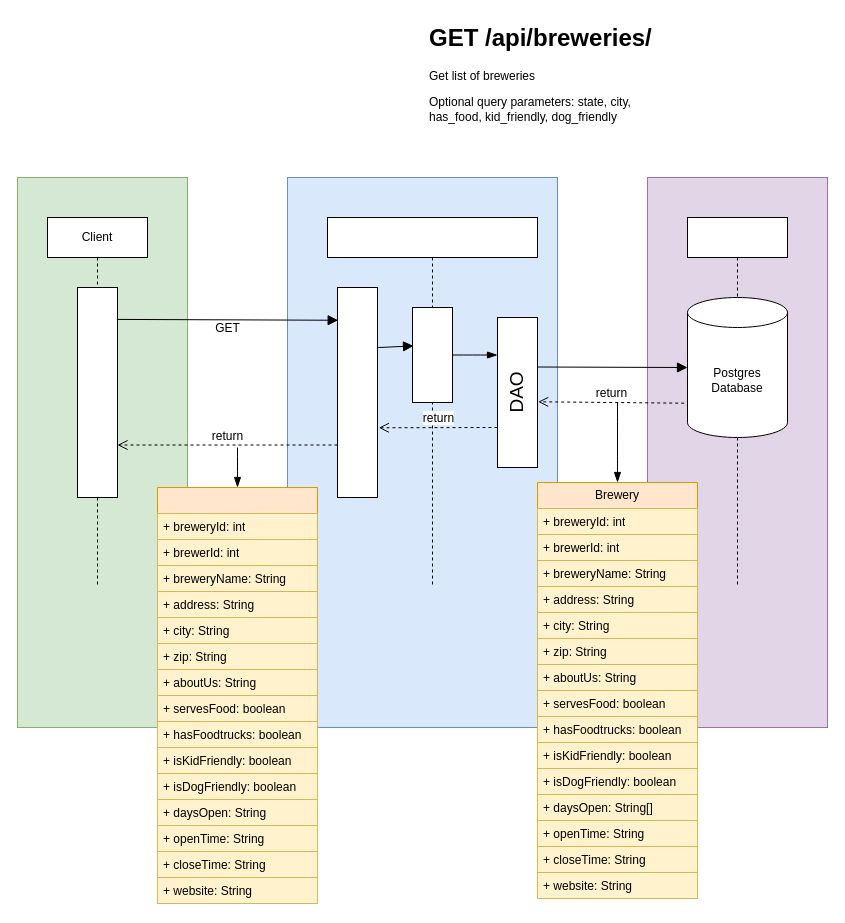
This 845x923 diagram has some shape labels left out. The shapes that lost their labels are listed below. From the top down, each one's box as (x1, y1, x2, y2) in pixels, then its label:
(412, 306, 452, 402): Service
(76, 286, 118, 498): Postman
(336, 286, 378, 498): Controller
(326, 216, 538, 588): Server
(686, 216, 788, 588): Persistence
(156, 486, 318, 904): BreweryResponseDto
